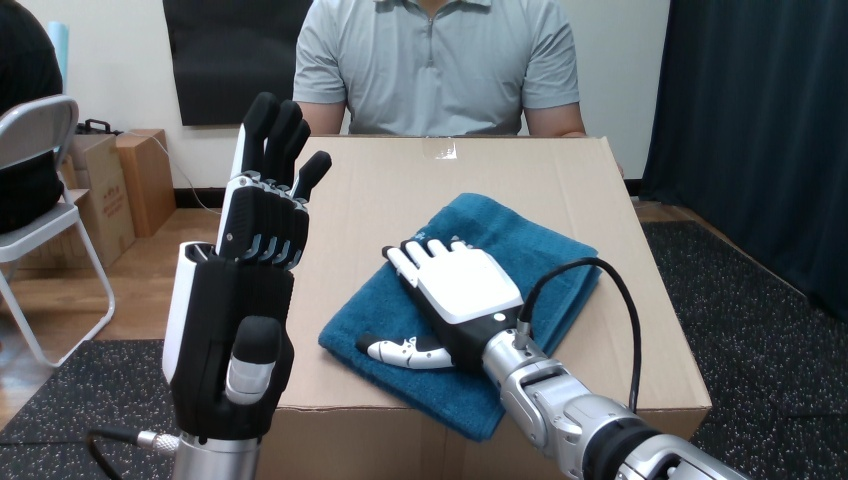left robot hand: (87, 92, 330, 479), (358, 239, 746, 479), (530, 264, 634, 407)
